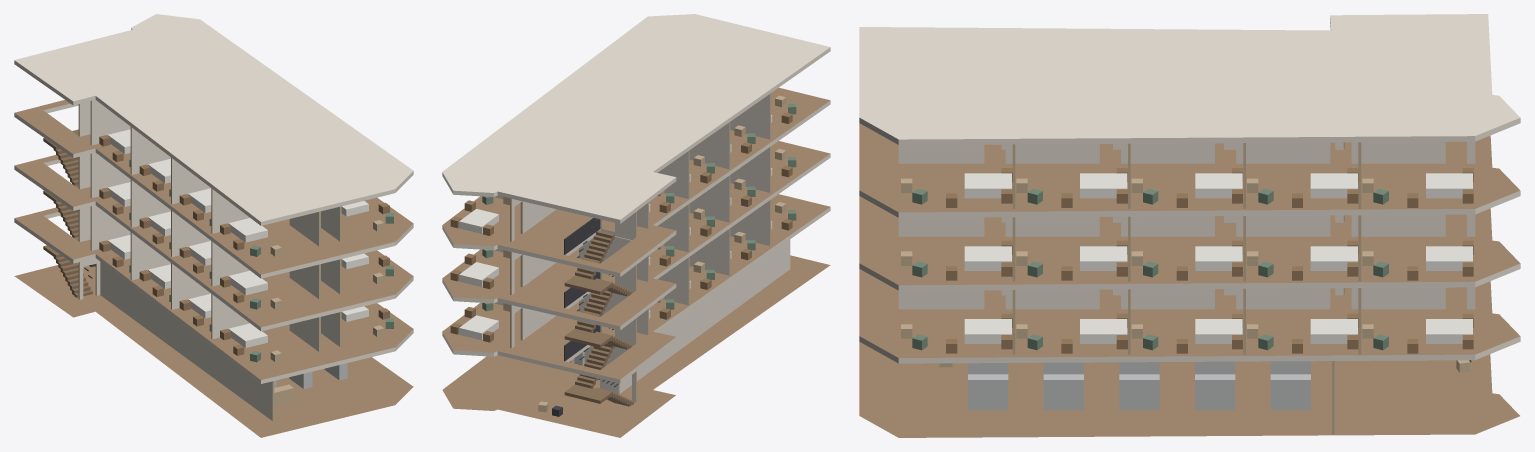
Rendered from interior.glb.
3 views of the same model, side by side, from view 1: azimuth 30°, elevation 25°; view 2: azimuth 150°, elevation 25°; view 3: azimuth 270°, elevation 25° (orthographic). The views are drawn at different scales.
Visible parts, largest first — view 1: slabs, partitions, coarse-s2, coarse-s3, coarse-s1, stair, coarse-s0; view 2: slabs, partitions, stair, coarse-s3, coarse-s1, coarse-s2; view 3: slabs, partitions, coarse-s0, coarse-s3, coarse-s2, coarse-s1.
Part boxes in pixels (x1,y1,x2,y2): slabs: [14, 14, 413, 437]; partitions: [78, 99, 341, 421]; coarse-s2: [99, 182, 393, 309]; coarse-s3: [99, 129, 393, 256]; coarse-s1: [99, 235, 393, 362]; stair: [43, 129, 92, 297]; coarse-s0: [89, 264, 347, 406]; slabs: [442, 14, 830, 437]; partitions: [494, 93, 790, 402]; stair: [564, 218, 633, 406]; coarse-s3: [450, 95, 796, 235]; coarse-s1: [450, 202, 796, 342]; coarse-s2: [450, 149, 796, 289]; slabs: [859, 14, 1520, 437]; partitions: [898, 141, 1475, 434]; coarse-s0: [939, 360, 1471, 410]; coarse-s3: [901, 168, 1473, 207]; coarse-s2: [901, 240, 1473, 280]; coarse-s1: [901, 313, 1473, 353].
Bounding box in the file's own units: 12.57 × 13.95 × 27.96.
